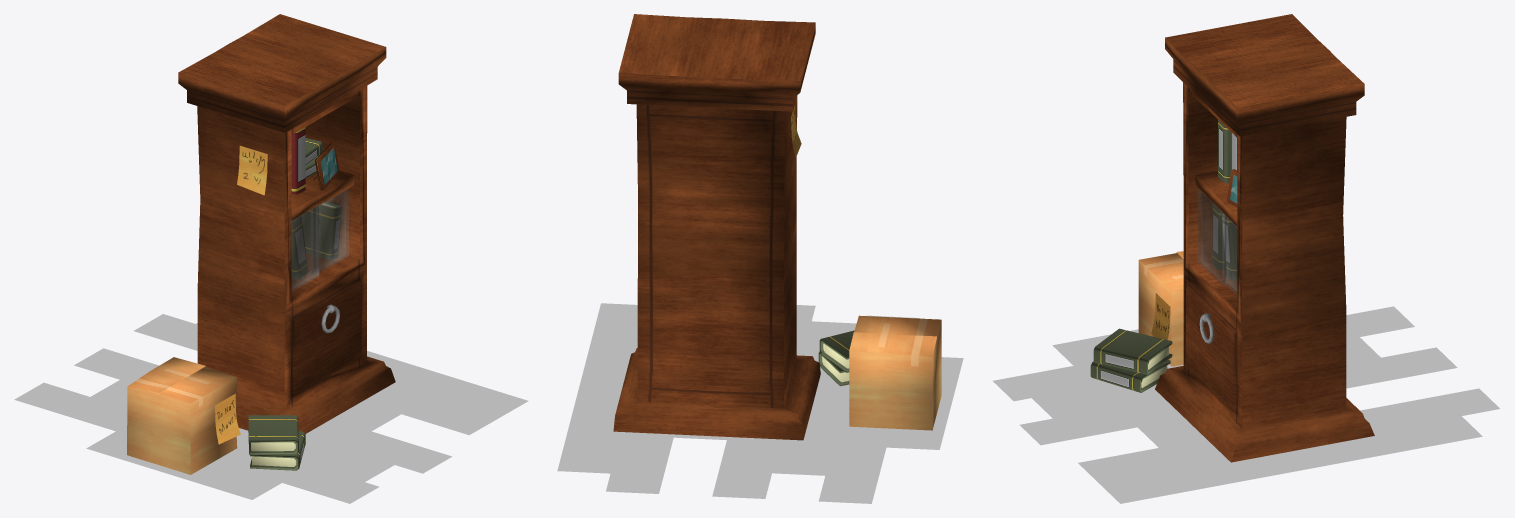
File: book_shelf.obj
3 renders of one model, left to right at view 1: azimuth 30°, elevation 25°; view 2: azimuth 150°, elevation 25°; view 3: azimuth 270°, elevation 25°, orthographic. The views are drawn at different scales.
Visible parts, largest first — view 1: obj1, obj8, obj9, obj6, obj7, obj17, obj16, obj2, obj10, obj18, obj5, obj11 (+2 smaller); view 2: obj1, obj8, obj9, obj17, obj18; view 3: obj1, obj8, obj9, obj17, obj7, obj18, obj2, obj6, obj15, obj12, obj19, obj11.
Part boxes in pixels (left/top/right/bottom): obj1: left=178, top=14, right=395, bottom=433; obj8: left=14, top=314, right=528, bottom=503; obj9: left=127, top=357, right=237, bottom=474; obj6: left=311, top=188, right=348, bottom=275; obj7: left=291, top=205, right=319, bottom=291; obj17: left=248, top=415, right=298, bottom=454; obj16: left=301, top=201, right=341, bottom=259; obj2: left=291, top=170, right=354, bottom=220; obj10: left=237, top=145, right=267, bottom=195; obj18: left=250, top=431, right=305, bottom=470; obj5: left=291, top=127, right=305, bottom=194; obj11: left=215, top=394, right=240, bottom=444; obj1: left=613, top=14, right=820, bottom=440; obj8: left=557, top=303, right=963, bottom=503; obj9: left=849, top=315, right=941, bottom=430; obj17: left=819, top=330, right=854, bottom=372; obj18: left=818, top=351, right=849, bottom=386; obj1: left=1155, top=14, right=1374, bottom=462; obj8: left=993, top=306, right=1499, bottom=503; obj9: left=1138, top=251, right=1183, bottom=366; obj17: left=1093, top=328, right=1172, bottom=374; obj7: left=1197, top=188, right=1225, bottom=285; obj18: left=1090, top=360, right=1170, bottom=392; obj2: left=1195, top=171, right=1237, bottom=225; obj6: left=1225, top=215, right=1237, bottom=294; obj15: left=1222, top=212, right=1236, bottom=280; obj12: left=1218, top=120, right=1231, bottom=183; obj19: left=1213, top=203, right=1224, bottom=270; obj11: left=1151, top=293, right=1170, bottom=339.
Size of the model in its own units: 0.0877 by 0.0729 by 0.0953.
